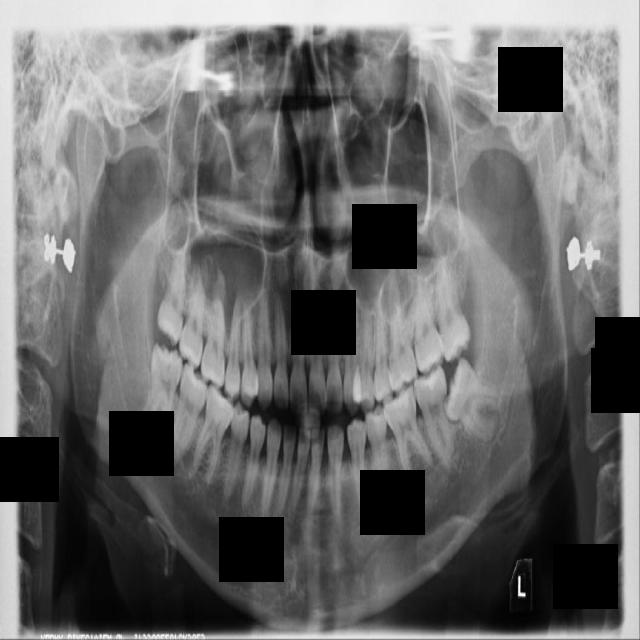3M ESPE Implant: (154, 233, 195, 349)
73: (595, 562, 606, 588)
BioHorizons Implant: (407, 259, 446, 376)
BioLife Implant: (432, 241, 473, 365)
Biomet 3i Implant: (423, 354, 519, 452)
Blue Sky Bio Implant: (410, 362, 456, 474)
Caries: (176, 256, 211, 373)
Implant: (168, 361, 213, 464)
Keystone Dental Implant: (137, 340, 187, 443)
